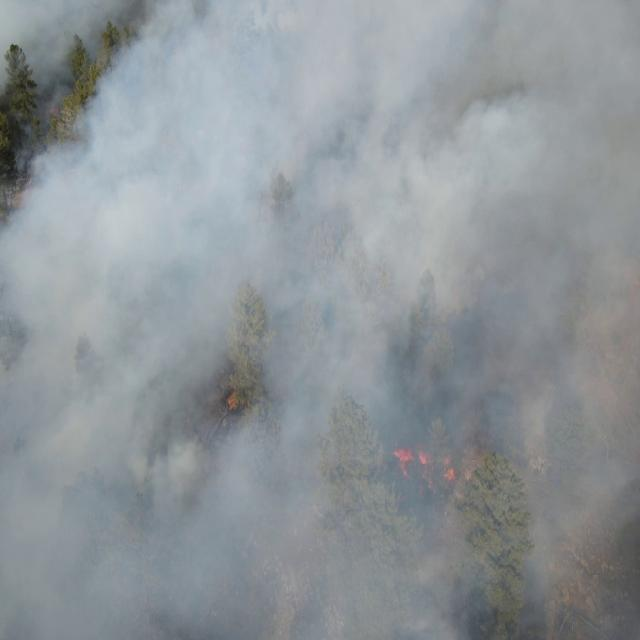fire: (391, 441, 458, 494), (221, 386, 240, 416), (46, 99, 60, 116)
smoke: (0, 0, 640, 635)
